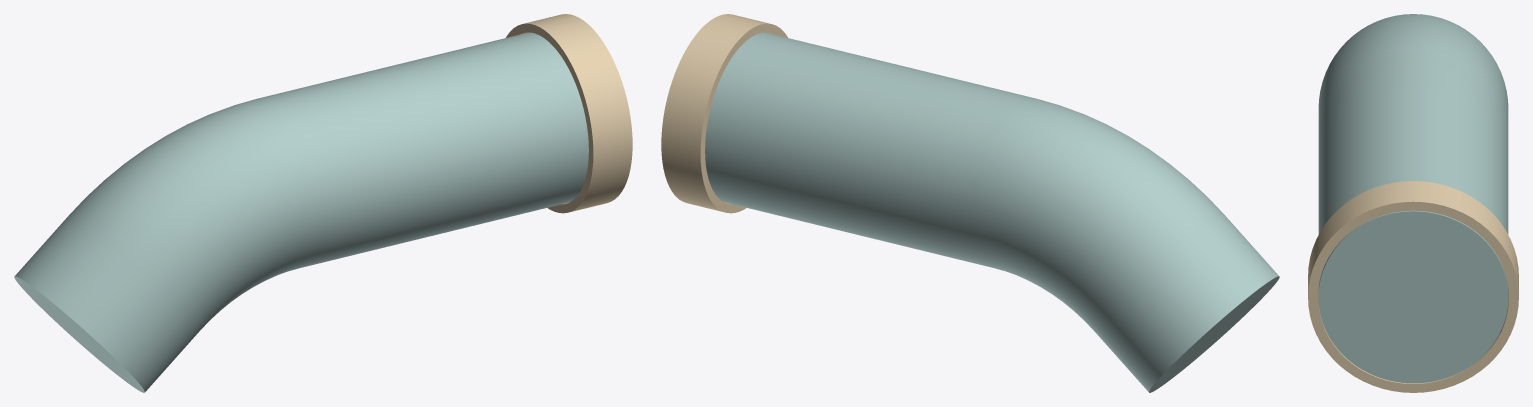
File: Pit_Tube_Socket_Climb.glb
The picture shows the model from 3 angles, left to right: view 1: azimuth 30°, elevation 25°; view 2: azimuth 150°, elevation 25°; view 3: azimuth 270°, elevation 25°; orthographic projection. The views are drawn at different scales.
Parts seen in each view (by area): view 1: Pit_Tube_Socket_Climb, Pit_Tube_Socket_Climb_Sleeves; view 2: Pit_Tube_Socket_Climb, Pit_Tube_Socket_Climb_Sleeves; view 3: Pit_Tube_Socket_Climb, Pit_Tube_Socket_Climb_Sleeves.
Part boxes in pixels (box(x1,y1,x2,y2)): Pit_Tube_Socket_Climb: box(14, 32, 588, 392); Pit_Tube_Socket_Climb_Sleeves: box(506, 14, 632, 213); Pit_Tube_Socket_Climb: box(705, 32, 1279, 392); Pit_Tube_Socket_Climb_Sleeves: box(661, 14, 787, 213); Pit_Tube_Socket_Climb: box(1318, 14, 1508, 383); Pit_Tube_Socket_Climb_Sleeves: box(1308, 181, 1518, 392).
Bounding box in the file's own units: 1.97 × 0.8568 × 0.6.
